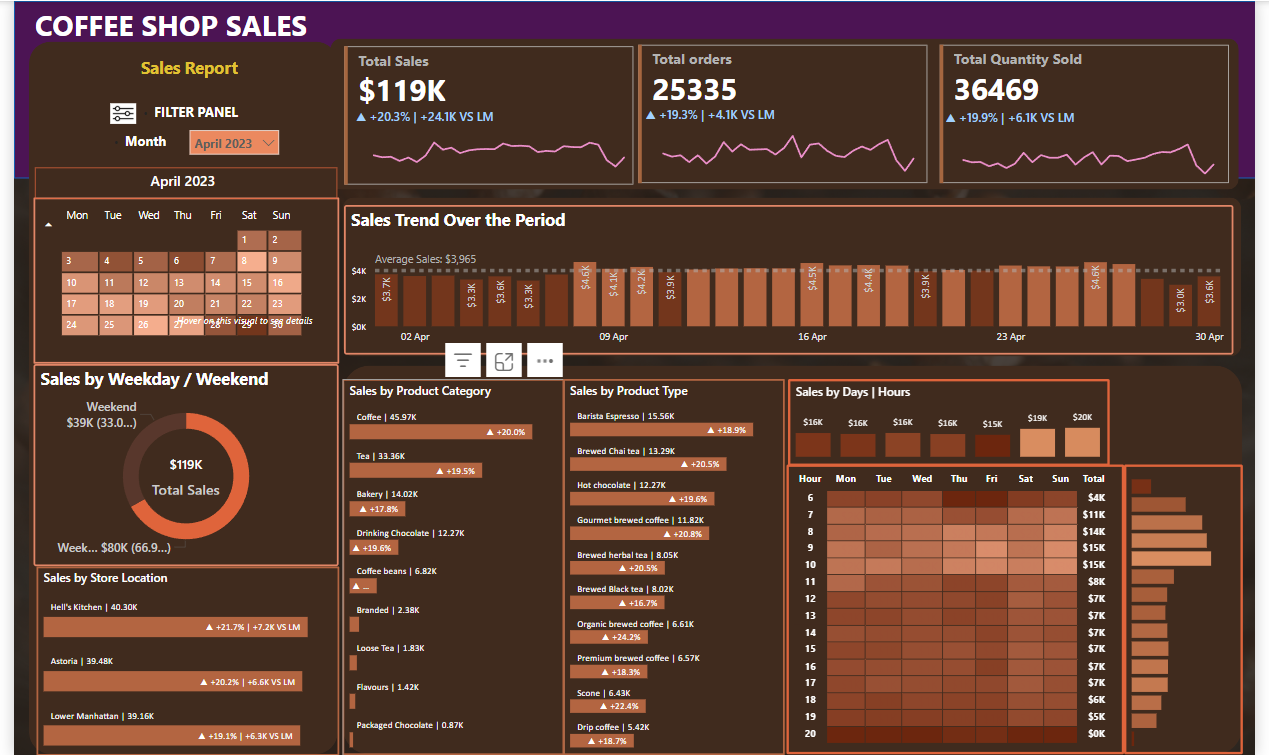

This screenshot's page, from the dashboard's own definition file:
{"tool":"powerbi","page":{"name":"Page 1","canvas":[1400,850],"ordinal":0},"visuals":[{"type":"shape","box":[0,0,1400,200],"z":0},{"type":"shape","box":[16.7,46.3,348.1,803.7],"z":1000},{"type":"shape","box":[357.4,42.6,1024.1,170.4],"z":2000},{"type":"textbox","box":[18.5,0,344.4,61.1],"z":3000},{"type":"cardVisual","fields":{"Data":["Transactions.Total orders"]},"box":[698.7,44.4,336,166],"z":4000,"group":"g4"},{"type":"cardVisual","fields":{"Data":["Transactions.Total Quantity Sold"]},"box":[1038.7,44.4,336,166],"z":4000,"group":"g3"},{"type":"cardVisual","fields":{"Data":["Transactions.Total Sales"]},"box":[366.7,46.4,336,166],"z":4000,"group":"g2"},{"type":"slicer","fields":{"Values":["Date Table.Month Year"]},"box":[192.6,140.7,111.1,46.3],"z":4000},{"type":"group","id":"g1","title":"Group 2","box":[366.7,44.4,1007.4,168.5],"z":5000},{"type":"group","id":"g2","title":"Group 1","box":[366.7,46.4,336,166],"z":5000,"group":"g4"},{"type":"lineChart","fields":{"Category":["Date Table.Date Hierarchy.Month Year","Date Table.Date Hierarchy.Quater","Date Table.Date Hierarchy.Month","Date Table.Date Hierarchy.Day"],"Y":["Transactions.Total orders"]},"box":[706.7,118.4,322,88],"z":6000,"group":"g1"},{"type":"lineChart","fields":{"Y":["Transactions.Total Sales"],"Category":["Date Table.Date Hierarchy.Month Year","Date Table.Date Hierarchy.Quater","Date Table.Date Hierarchy.Month","Date Table.Date Hierarchy.Day"]},"box":[380.7,120.4,322,88],"z":6000,"group":"g2"},{"type":"lineChart","fields":{"Category":["Date Table.Date Hierarchy.Month Year","Date Table.Date Hierarchy.Quater","Date Table.Date Hierarchy.Month","Date Table.Date Hierarchy.Day"],"Y":["Transactions.Total Quantity Sold"]},"box":[1044.7,122.4,322,88],"z":6000,"group":"g3"},{"type":"pivotTable","fields":{"Rows":["Date Table.Week Number"],"Columns":["Date Table.Day Name"],"Values":["Min(Date Table.Day Number)"]},"box":[22.2,222.2,344.4,187],"z":6000},{"type":"group","id":"g3","title":"Group 1","box":[1038.7,44.4,336,166],"z":7000,"group":"g4"},{"type":"card","fields":{"Values":["Min(Date Table.Date Hierarchy.Month Year)"]},"box":[24.1,187,340.7,35.2],"z":7000},{"type":"group","id":"g4","title":"Group 3","box":[366.7,44.4,1008,168],"z":7002,"group":"g1"},{"type":"card","fields":{"Values":["Transactions.Foot Note"]},"box":[176,348,168,26],"z":8000},{"type":"card","title":"Sales by Weekday / Weekend","fields":{"Values":["Transactions.Total Sales"]},"box":[146,508,96,54],"z":9000},{"type":"shape","box":[370.4,222.2,1014.8,179.6],"z":10000},{"type":"donutChart","title":" Sales by Weekday / Weekend","fields":{"Category":["Date Table.Weekday / Weekend"],"Y":["Transactions.Total Sales"]},"box":[22,410,344,228],"z":11000},{"type":"clusteredBarChart","title":"Sales  by Store Location","fields":{"Category":["Transactions.store_location"],"Y":["Transactions.Placeholder","Transactions.Total Sales"]},"box":[24.5,637.7,341.5,213.2],"z":12000},{"type":"columnChart","title":"Sales Trend Over the Period","fields":{"Category":["Transactions.transaction_date"],"Y":["Transactions.Total Sales"]},"box":[372.5,230.4,1002.4,169],"z":13000},{"type":"shape","box":[370.4,411.1,1014.8,438.9],"z":14000},{"type":"clusteredBarChart","title":"Sales  by Product Category","fields":{"Y":["Transactions.Placeholder","Transactions.Total Sales"],"Category":["Transactions.product_category"]},"box":[370.4,425.9,250,424.1],"z":15000},{"type":"clusteredBarChart","title":"Sales  by Product Type","fields":{"Y":["Transactions.Placeholder","Transactions.Total Sales"],"Category":["Transactions.product_type"]},"box":[618.5,425.9,250,424.1],"z":16000},{"type":"pivotTable","fields":{"Rows":["Transactions.Hour"],"Columns":["Date Table.Day Name"],"Values":["Transactions.Total Sales"]},"box":[871.4,523.2,380.4,326.8],"z":17000},{"type":"barChart","fields":{"Category":["Transactions.Hour"],"Y":["Transactions.Total Sales"]},"box":[1251.8,523.2,133.9,326.8],"z":18000},{"type":"columnChart","title":" Sales by Days | Hours","fields":{"Y":["Transactions.Total Sales"],"Category":["Date Table.Day Name"]},"box":[872.2,425.9,363,98.1],"z":19000},{"type":"textbox","box":[98.1,142.6,96.3,40.7],"z":20000},{"type":"textbox","box":[25.9,57.4,344.4,61.1],"z":21000},{"type":"textbox","box":[22.2,109.3,344.4,40.7],"z":22000},{"type":"image","box":[100,109.3,46.3,33.3],"z":23000}]}

Visuals, with their boxes in screenshot pixels (x1, y1, x2, y2), scaled from the page's 1400x850 canvas onto the 1269x755 screenshot:
shape: 0:0:1268:178
shape: 15:41:331:754
shape: 324:38:1252:189
textbox: 17:0:329:54
cardVisual - Transactions.Total orders: 633:39:938:187
cardVisual - Transactions.Total Quantity Sold: 942:39:1246:187
cardVisual - Transactions.Total Sales: 332:41:637:189
slicer - Date Table.Month Year: 175:125:275:166
"Group 2" group: 332:39:1246:189
"Group 1" group: 332:41:637:189
lineChart - Date Table.Date Hierarchy.Month Year x Date Table.Date Hierarchy.Quater: 641:105:932:183
lineChart - Transactions.Total Sales x Date Table.Date Hierarchy.Month Year: 345:107:637:185
lineChart - Date Table.Date Hierarchy.Month Year x Date Table.Date Hierarchy.Quater: 947:109:1239:187
pivotTable - Date Table.Week Number x Date Table.Day Name: 20:197:332:363
"Group 1" group: 942:39:1246:187
card - Min(Date Table.Date Hierarchy.Month Year): 22:166:331:197
"Group 3" group: 332:39:1246:189
card - Transactions.Foot Note: 160:309:312:332
"Sales by Weekday / Weekend" card: 132:451:219:499
shape: 336:197:1256:357
" Sales by Weekday / Weekend" donutChart: 20:364:332:567
"Sales  by Store Location" clusteredBarChart: 22:566:332:754
"Sales Trend Over the Period" columnChart: 338:205:1246:355
shape: 336:365:1256:754
"Sales  by Product Category" clusteredBarChart: 336:378:562:754
"Sales  by Product Type" clusteredBarChart: 561:378:787:754
pivotTable - Transactions.Hour x Date Table.Day Name: 790:465:1135:754
barChart - Transactions.Hour x Transactions.Total Sales: 1135:465:1256:754
" Sales by Days | Hours" columnChart: 791:378:1120:465
textbox: 89:127:176:163
textbox: 23:51:336:105
textbox: 20:97:332:133
image: 91:97:133:127
